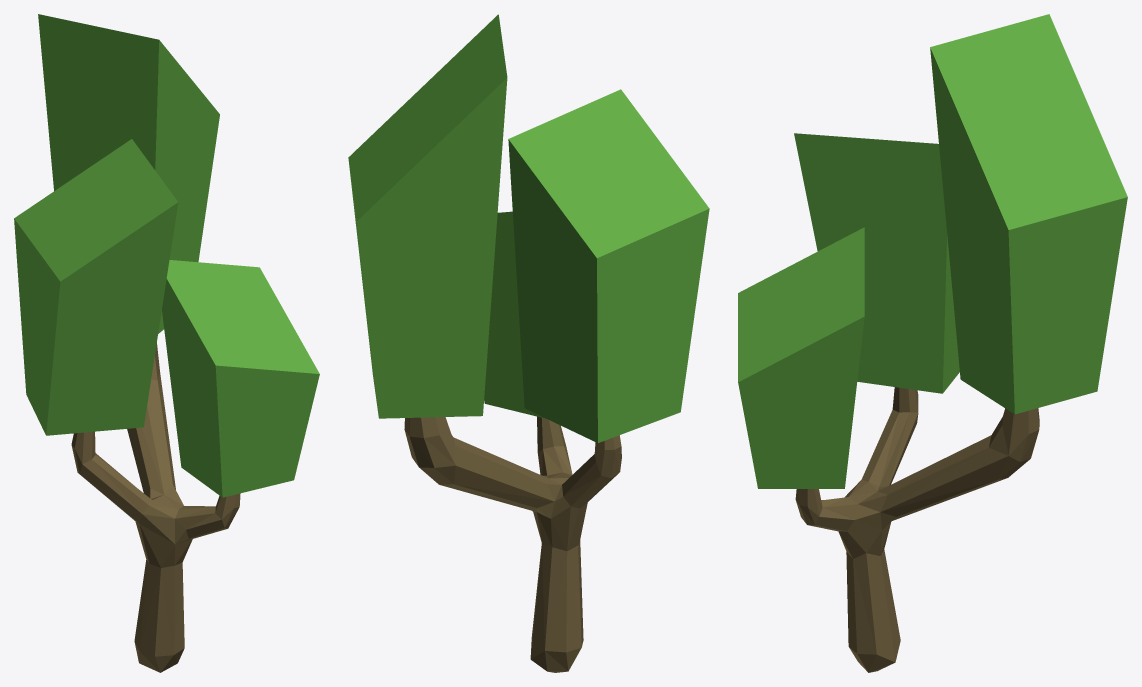
The model's file is tree-stylized-2.fbx.
3 views of the same model, side by side, from view 1: azimuth 30°, elevation 25°; view 2: azimuth 150°, elevation 25°; view 3: azimuth 270°, elevation 25° (orthographic). The views are drawn at different scales.
Parts seen in each view (by area): view 1: Leaves.006; view 2: Leaves.006; view 3: Leaves.006.
Boxes of the visible parts, left/top/right/bottom form: Leaves.006: left=14, top=14, right=319, bottom=672; Leaves.006: left=348, top=14, right=709, bottom=672; Leaves.006: left=738, top=14, right=1127, bottom=672.
Bounding box in the file's own units: 465 × 1110 × 615.
